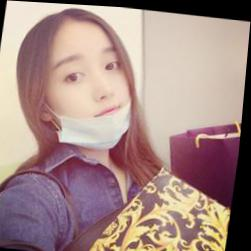WRONG: (34, 36, 149, 149)
